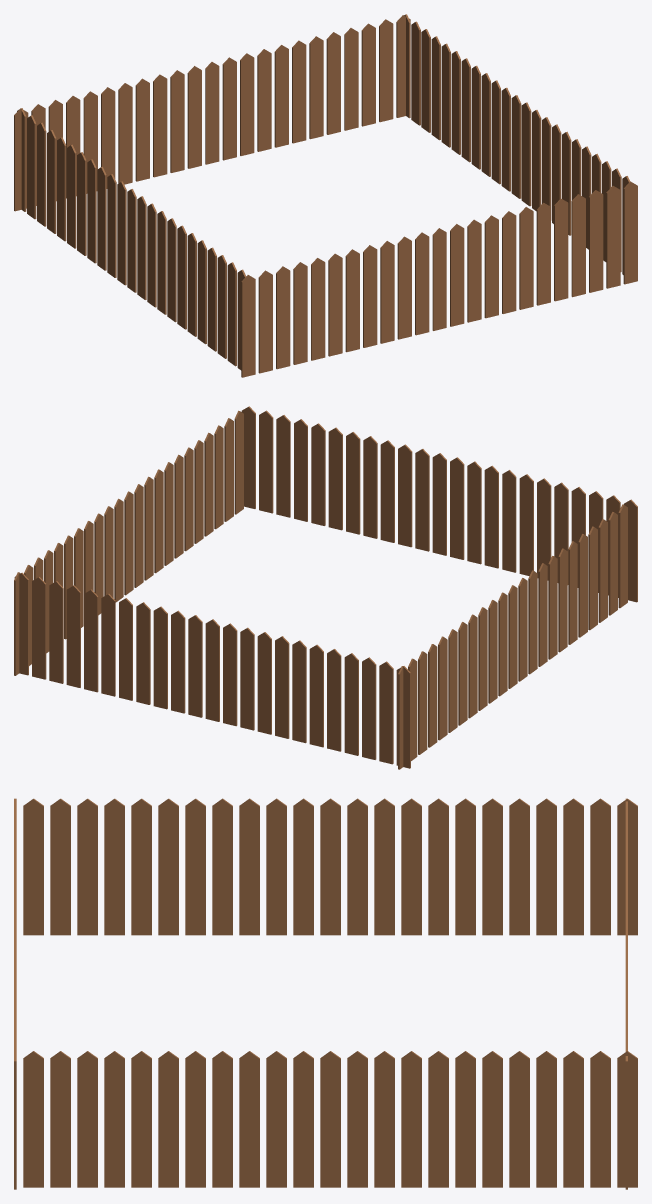
File: fences.glb
The picture shows the model from 3 angles, top to bottom: view 1: azimuth 30°, elevation 25°; view 2: azimuth 150°, elevation 25°; view 3: azimuth 270°, elevation 25°; orthographic projection. The views are drawn at different scales.
Visible parts, largest first — view 1: Fence.001, Fence.004, Fence.003, Fence.002; view 2: Fence.004, Fence.001, Fence.003, Fence.002; view 3: Fence.003, Fence.002, Fence.001, Fence.004.
Part boxes in pixels (box(x1,y1,x2,y2)): Fence.001: box(241, 181, 637, 377); Fence.004: box(14, 15, 410, 211); Fence.003: box(17, 108, 246, 370); Fence.002: box(404, 14, 630, 274); Fence.004: box(14, 572, 410, 768); Fence.001: box(241, 406, 637, 602); Fence.003: box(398, 504, 627, 769); Fence.002: box(14, 410, 243, 675); Fence.003: box(23, 798, 637, 935); Fence.002: box(23, 1051, 637, 1187); Fence.001: box(14, 798, 16, 1189); Fence.004: box(625, 798, 627, 1189).
Size of what is drawn, in the model's own units: 3.69 by 0.8993 by 3.75.
